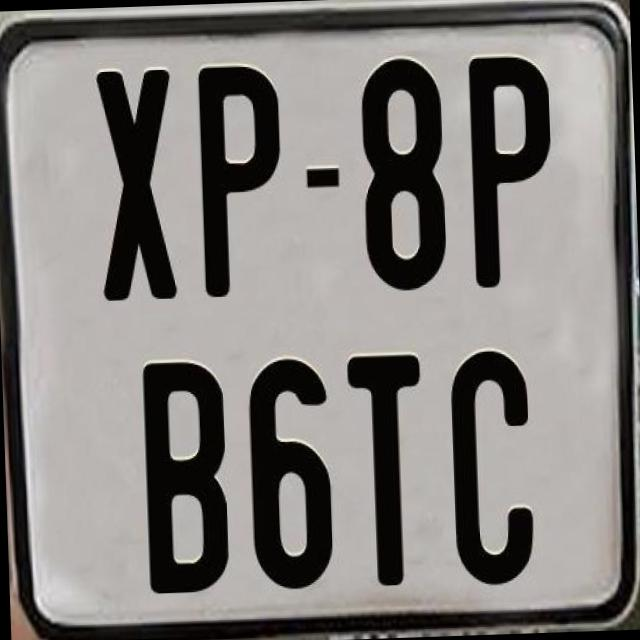6: (246, 353, 336, 595)
8: (355, 56, 447, 293)
B: (138, 358, 234, 594)
C: (449, 348, 543, 592)
P: (194, 58, 288, 296), (468, 54, 562, 289)
T: (342, 350, 423, 586)
X: (95, 66, 178, 297)
